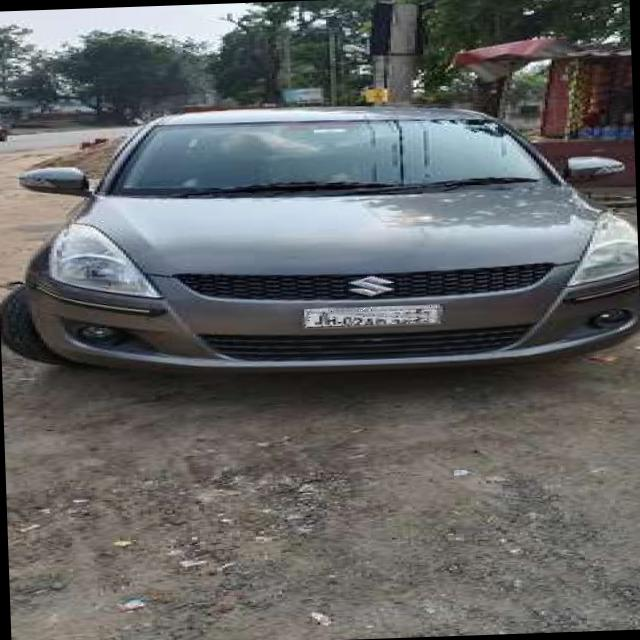Plate: (305, 305, 439, 328)
